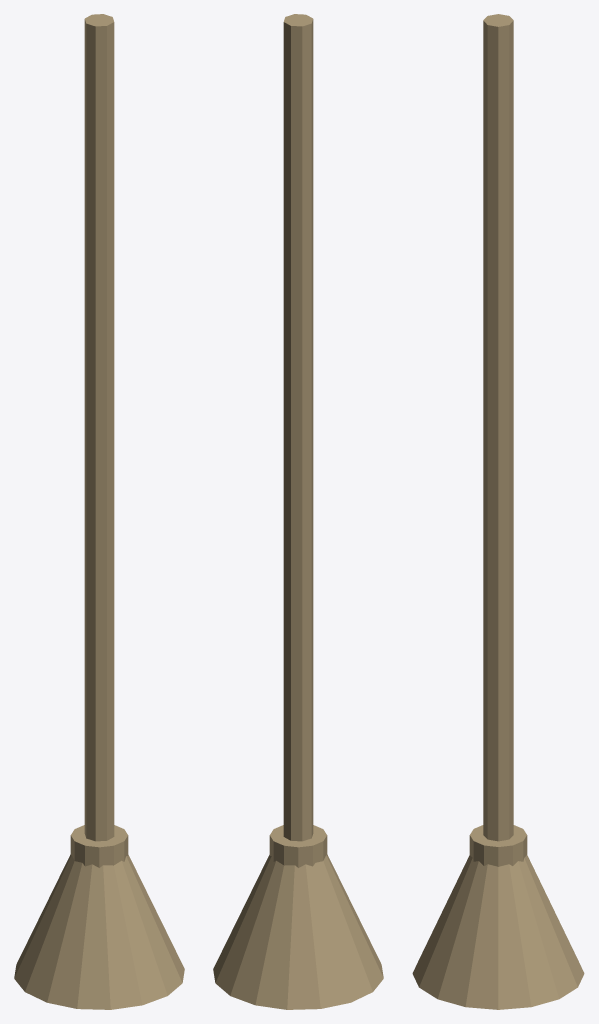
The model's file is broom.glb.
The picture shows the model from 3 angles, left to right: view 1: azimuth 30°, elevation 25°; view 2: azimuth 150°, elevation 25°; view 3: azimuth 270°, elevation 25°; orthographic projection.
Visible parts, largest first — view 1: broom; view 2: broom; view 3: broom.
Boxes of the visible parts, x1=… form: broom: x1=14, y1=14, x2=184, y2=1009; broom: x1=213, y1=14, x2=383, y2=1009; broom: x1=412, y1=14, x2=584, y2=1009.
Size of the model in its own units: 0.09 by 0.55 by 0.09.
